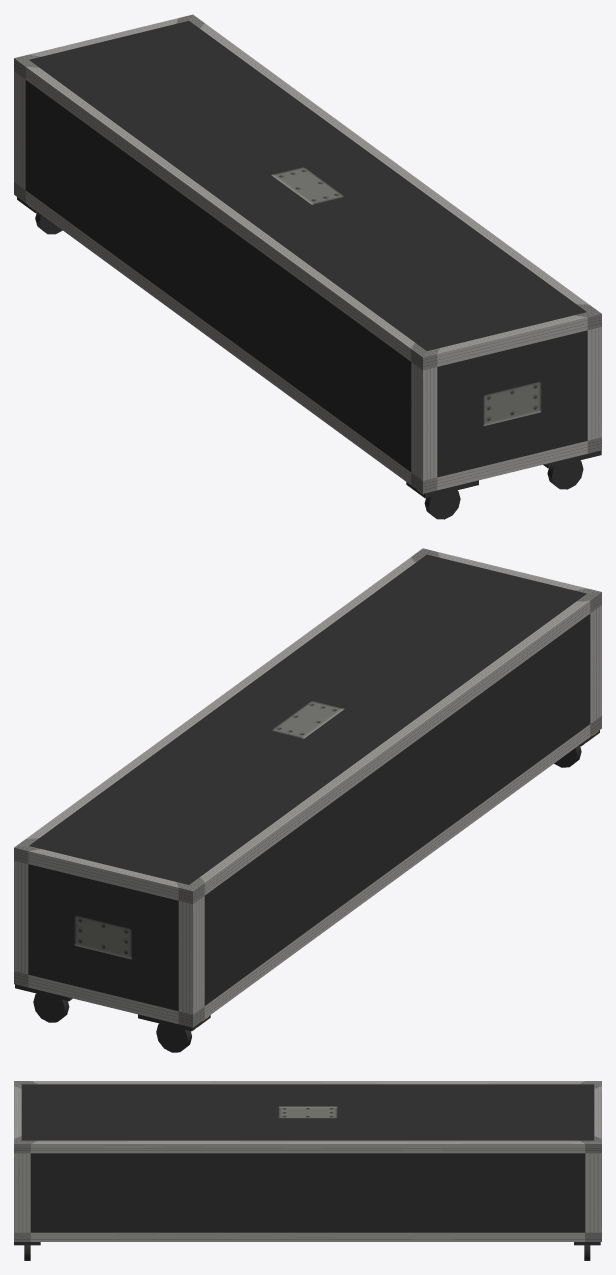
File: Flight_case_4.fbx
3 views of the same model, one above another, from view 1: azimuth 30°, elevation 25°; view 2: azimuth 150°, elevation 25°; view 3: azimuth 270°, elevation 25° (orthographic). The views are drawn at different scales.
Parts seen in each view (by area): view 1: Flight_case_4; view 2: Flight_case_4; view 3: Flight_case_4.
Part boxes in pixels (x1,y1,x2,y2): Flight_case_4: (14,14,601,519); Flight_case_4: (14,548,601,1052); Flight_case_4: (14,1081,601,1260).
Bounding box in the file's own units: 1.15 × 1.07 × 4.53.
